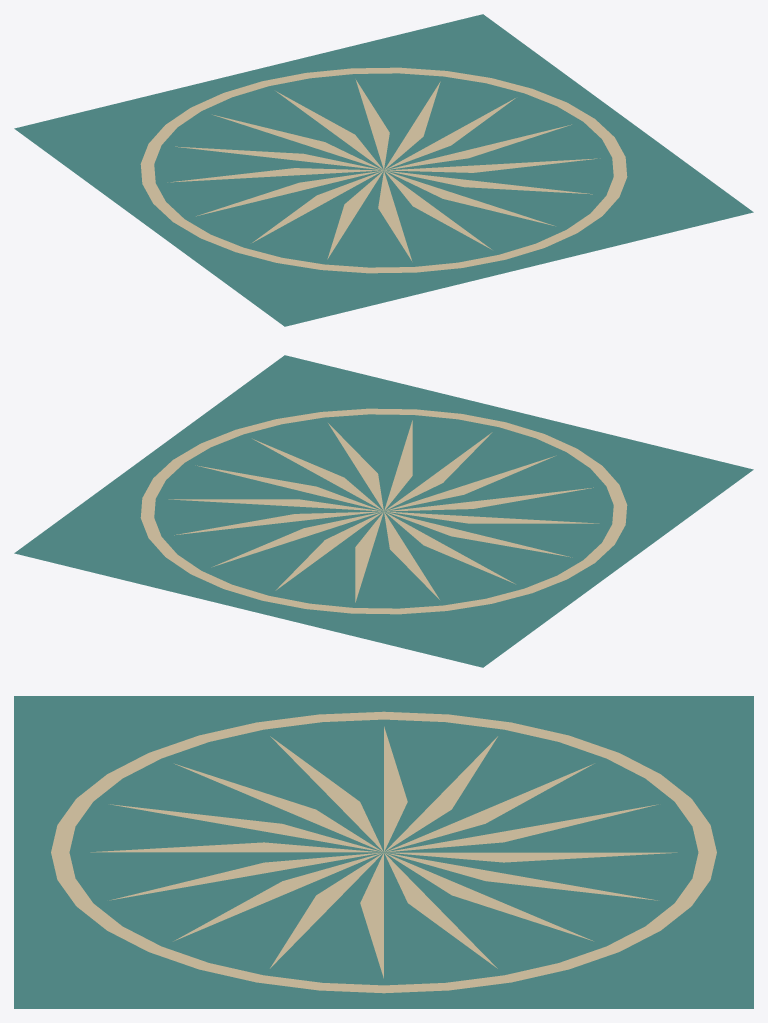
File: KC32__AD_Int_Floor_Medallion.glb
The picture shows the model from 3 angles, top to bottom: view 1: azimuth 30°, elevation 25°; view 2: azimuth 150°, elevation 25°; view 3: azimuth 270°, elevation 25°; orthographic projection. The views are drawn at different scales.
Parts seen in each view (by area): view 1: KC32_CORPS__AD_Int_Floor_Medallion, KC32_BRONZE__AD_Int_Floor_Medallion; view 2: KC32_CORPS__AD_Int_Floor_Medallion, KC32_BRONZE__AD_Int_Floor_Medallion; view 3: KC32_CORPS__AD_Int_Floor_Medallion, KC32_BRONZE__AD_Int_Floor_Medallion.
Part boxes in pixels (box(x1,y1,x2,y2)): KC32_CORPS__AD_Int_Floor_Medallion: box(14, 14, 753, 326); KC32_BRONZE__AD_Int_Floor_Medallion: box(140, 67, 627, 273); KC32_CORPS__AD_Int_Floor_Medallion: box(14, 355, 753, 667); KC32_BRONZE__AD_Int_Floor_Medallion: box(140, 408, 627, 614); KC32_CORPS__AD_Int_Floor_Medallion: box(14, 696, 753, 1008); KC32_BRONZE__AD_Int_Floor_Medallion: box(51, 711, 716, 993).
Bounding box in the file's own units: 4 × 0 × 4.
